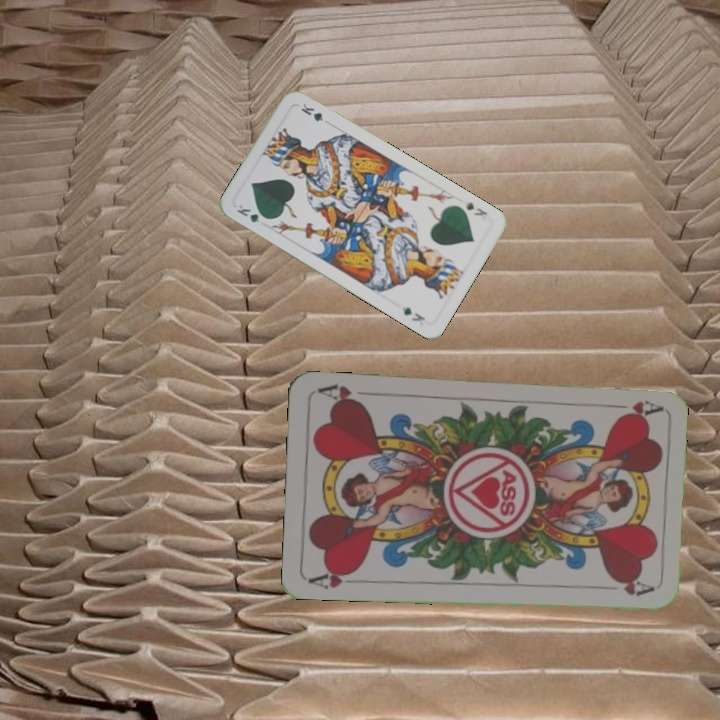GK: (233, 200, 271, 225), (462, 198, 490, 219)
HA: (306, 565, 365, 592), (603, 396, 662, 418)
